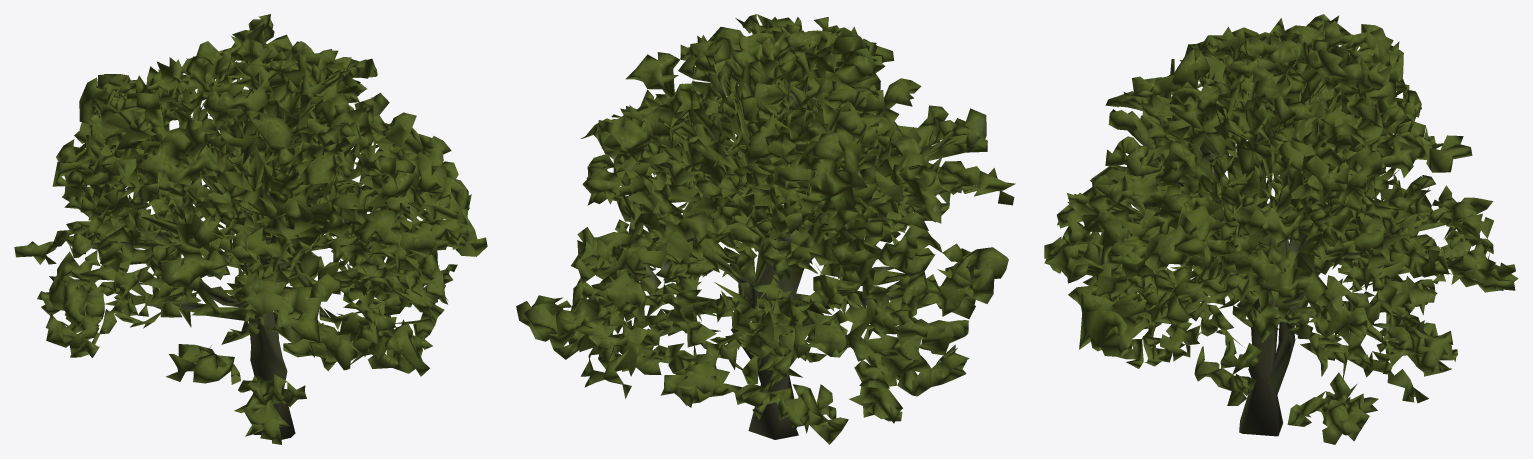
File: oak.glb
The picture shows the model from 3 angles, left to right: view 1: azimuth 30°, elevation 25°; view 2: azimuth 150°, elevation 25°; view 3: azimuth 270°, elevation 25°; orthographic projection. The views are drawn at different scales.
Parts seen in each view (by area): view 1: Mesh_0; view 2: Mesh_0; view 3: Mesh_0.
Boxes of the visible parts, x1,y1,x2,y2 form: Mesh_0: (14,14,487,444); Mesh_0: (516,14,1015,444); Mesh_0: (1044,14,1518,444).
Bounding box in the file's own units: 1.09 × 1 × 1.09.
Materials: 1 (1 with a texture image).
